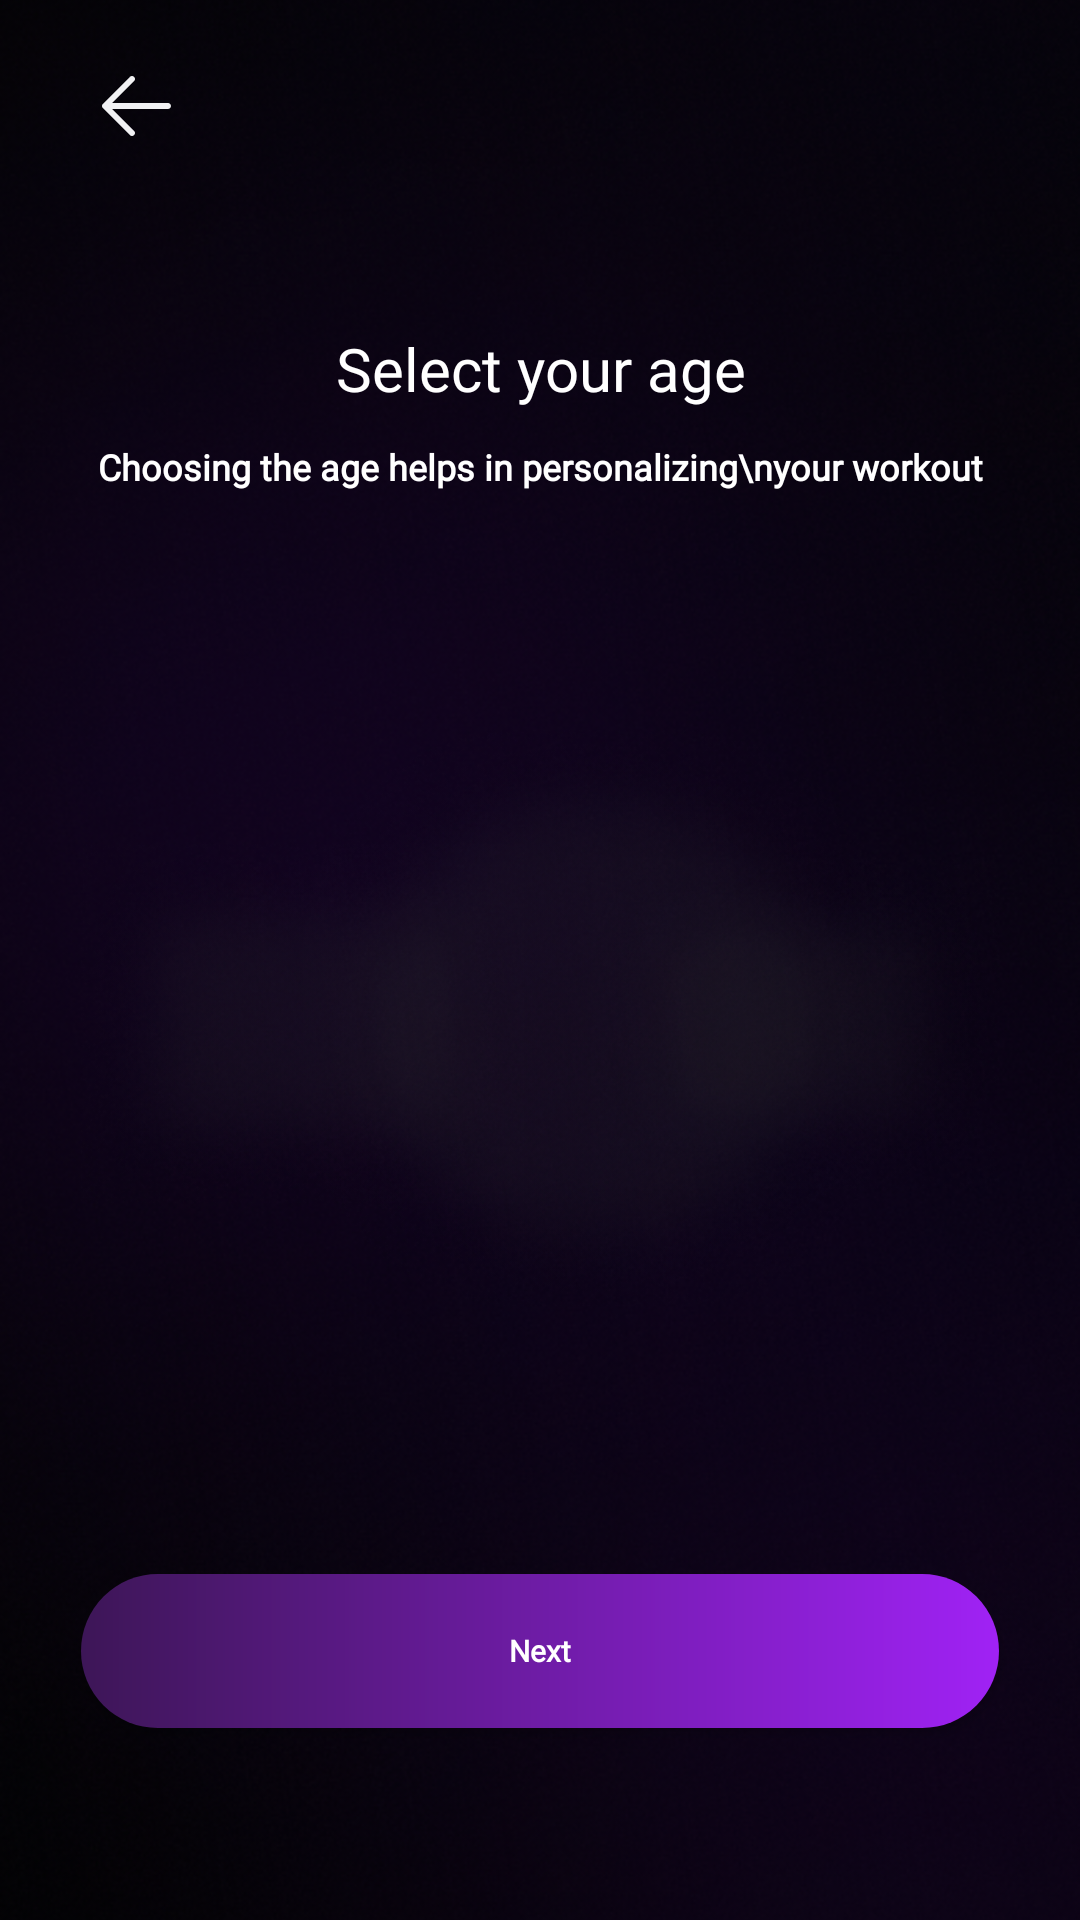

Point at icon controls on the screen. Image size 1080px×1920px, points as [x,y].
back: [136,106]
